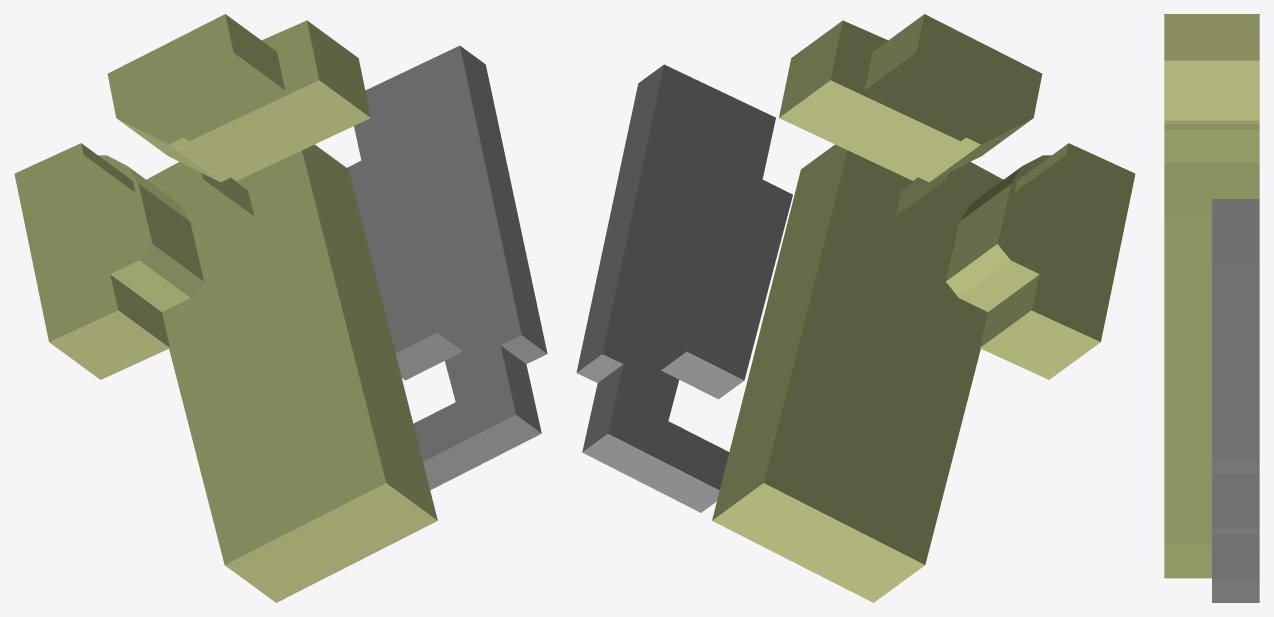
3 renders of one model, left to right at view 1: azimuth 30°, elevation 25°; view 2: azimuth 150°, elevation 25°; view 3: azimuth 270°, elevation 25°, orthographic. The views are drawn at different scales.
Parts seen in each view (by area): view 1: 0_1_0_2_0_1_3_0_3; view 2: 0_1_0_2_0_1_3_0_3; view 3: 0_1_0_2_0_1_3_0_3.
Part boxes in pixels (x1,y1,x2,y2): 0_1_0_2_0_1_3_0_3: (14, 14, 547, 602); 0_1_0_2_0_1_3_0_3: (576, 14, 1135, 602); 0_1_0_2_0_1_3_0_3: (1164, 14, 1259, 602).
Size of the model in its own units: 33.99 by 35.27 by 6.
